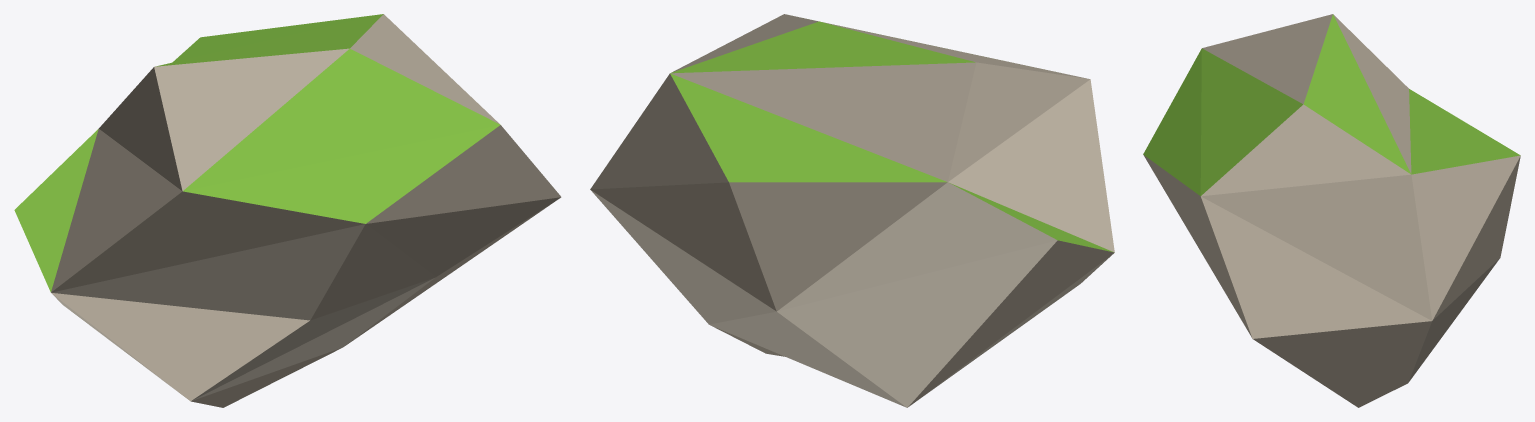
Rendered from roca.glb.
The picture shows the model from 3 angles, left to right: view 1: azimuth 30°, elevation 25°; view 2: azimuth 150°, elevation 25°; view 3: azimuth 270°, elevation 25°; orthographic projection. The views are drawn at different scales.
Visible parts, largest first — view 1: roca_roca, roca_musgo, roca_roca_claro; view 2: roca_roca, roca_roca_claro, roca_musgo; view 3: roca_roca, roca_musgo, roca_roca_claro.
Part boxes in pixels (x1,y1,x2,y2): roca_roca: (51, 14, 561, 407); roca_musgo: (14, 14, 500, 292); roca_roca_claro: (52, 224, 435, 400); roca_roca: (590, 14, 1114, 407); roca_roca_claro: (591, 182, 1113, 407); roca_musgo: (670, 21, 1113, 252); roca_roca: (1143, 14, 1520, 407); roca_musgo: (1143, 14, 1520, 196); roca_roca_claro: (1408, 258, 1499, 382).
Bounding box in the file's own units: 2.51 × 1.73 × 1.89.
